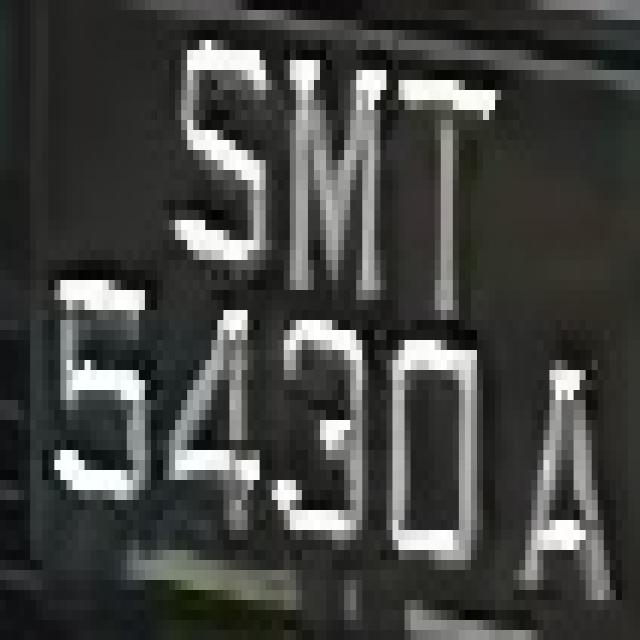0: (374, 310, 495, 580)
3: (272, 290, 380, 560)
4: (138, 260, 260, 560)
5: (36, 230, 163, 560)
A: (489, 330, 616, 610)
M: (248, 40, 404, 330)
S: (163, 20, 266, 270)
T: (374, 40, 508, 320)
